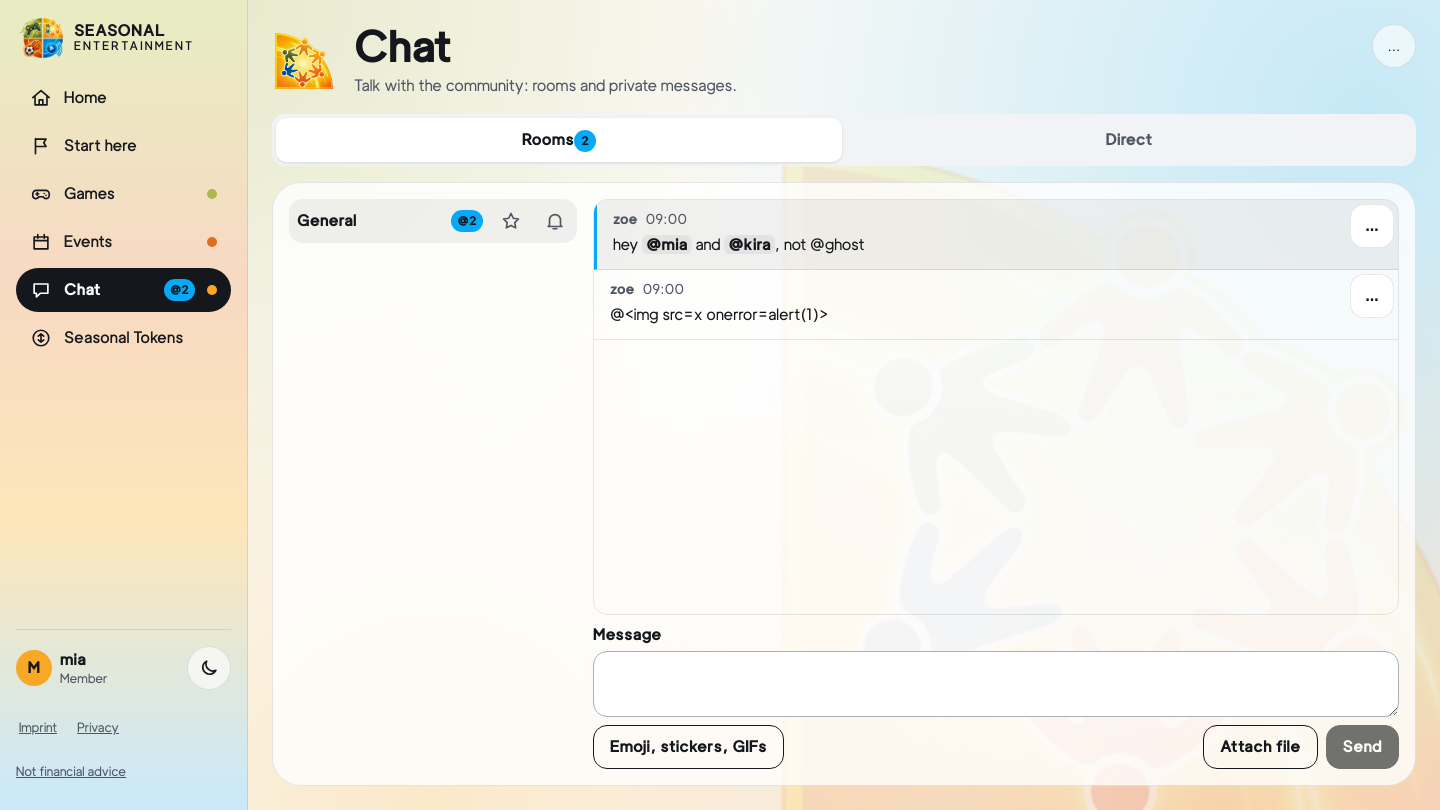
Test: draws chips for resolved mentions and highlights the reader’s own
Expected: the list named "Messages in General" is shown, left=593, top=199, right=1399, bottom=615
Step 1. Click the button "@kira" → (750, 245), box left=728, top=233, right=771, bottom=257
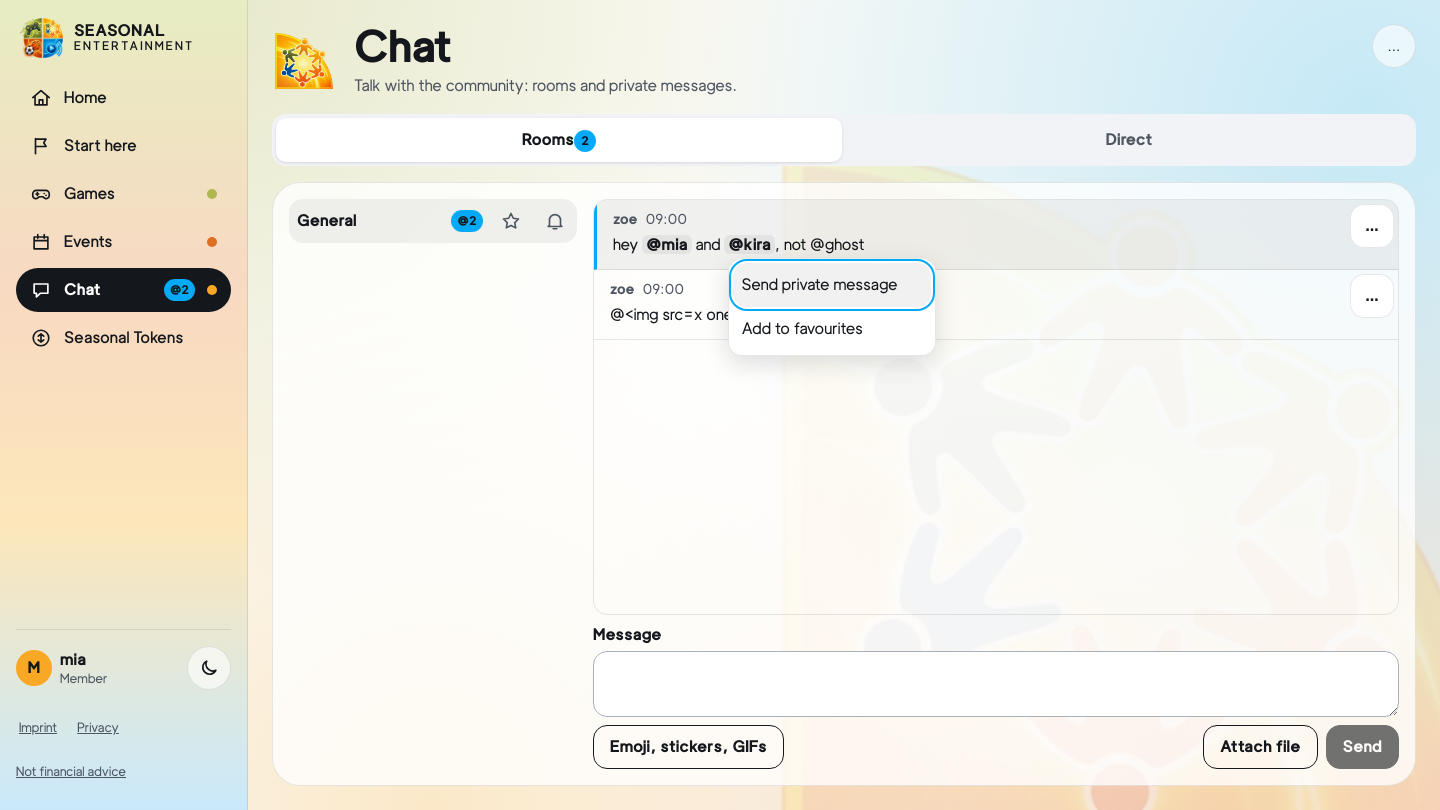
Expected: the text "@mia" is shown, left=642, top=235, right=692, bottom=254
Expected: the menu named "@kira" is shown, left=728, top=258, right=936, bottom=356
